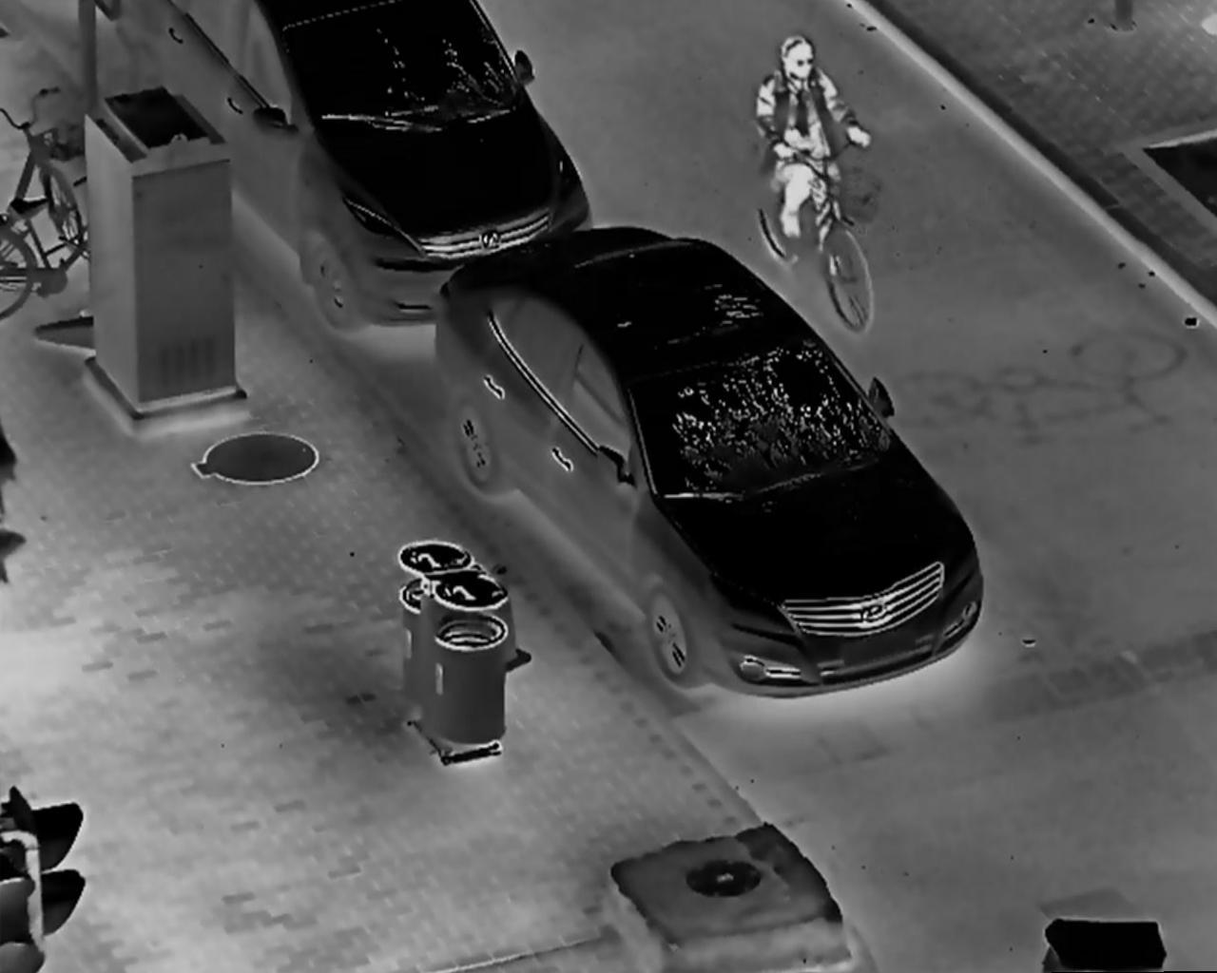person: (749, 30, 882, 279)
